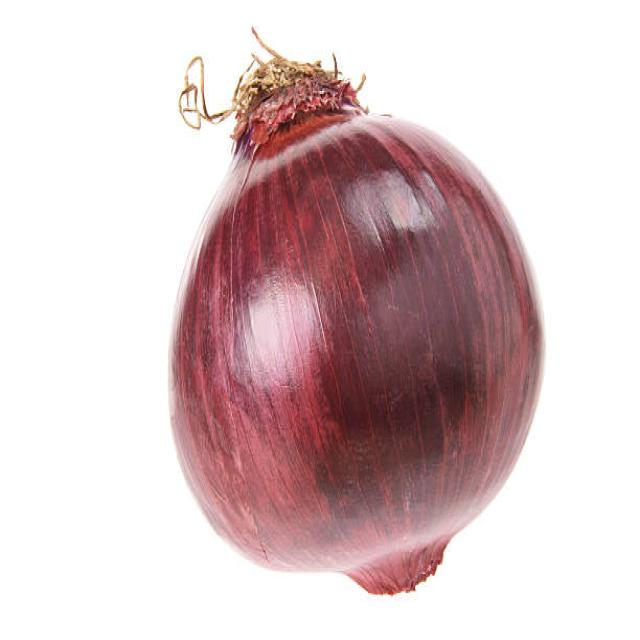onion: (165, 110, 543, 607)
